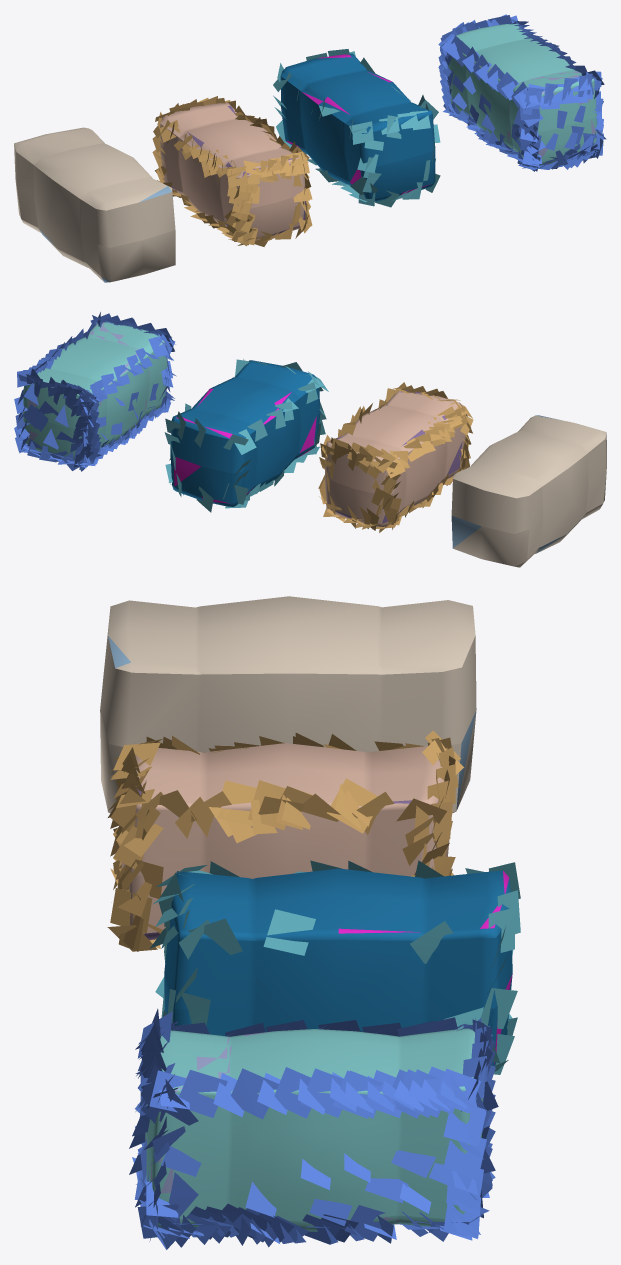
3 views of the same model, one above another, from view 1: azimuth 30°, elevation 25°; view 2: azimuth 150°, elevation 25°; view 3: azimuth 270°, elevation 25° (orthographic). The views are drawn at different scales.
Parts seen in each view (by area): view 1: 004-0-4, 002-0-2, 006-0-6, 000-0-0, 005-0-5, 001-0-1, 003-0-3; view 2: 004-0-4, 002-0-2, 006-0-6, 000-0-0, 005-0-5, 001-0-1, 003-0-3; view 3: 004-0-4, 002-0-2, 006-0-6, 005-0-5, 000-0-0, 001-0-1, 003-0-3.
Part boxes in pixels (bbox=[...]): 004-0-4: bbox=[14, 127, 175, 282]; 002-0-2: bbox=[280, 53, 435, 201]; 006-0-6: bbox=[438, 14, 606, 171]; 000-0-0: bbox=[160, 102, 305, 240]; 005-0-5: bbox=[448, 23, 597, 164]; 001-0-1: bbox=[152, 96, 312, 246]; 003-0-3: bbox=[273, 49, 440, 207]; 004-0-4: bbox=[451, 415, 606, 567]; 002-0-2: bbox=[170, 360, 320, 506]; 006-0-6: bbox=[14, 312, 176, 471]; 000-0-0: bbox=[325, 390, 465, 526]; 005-0-5: bbox=[23, 322, 167, 459]; 001-0-1: bbox=[318, 382, 473, 532]; 003-0-3: bbox=[164, 359, 328, 512]; 004-0-4: bbox=[100, 596, 476, 813]; 002-0-2: bbox=[164, 868, 512, 1065]; 006-0-6: bbox=[129, 1008, 498, 1249]; 005-0-5: bbox=[145, 1028, 483, 1231]; 000-0-0: bbox=[121, 743, 449, 940]; 001-0-1: bbox=[107, 730, 463, 951]; 003-0-3: bbox=[149, 860, 520, 1074].
Size of the model in its own units: 569 by 96.93 by 201.
